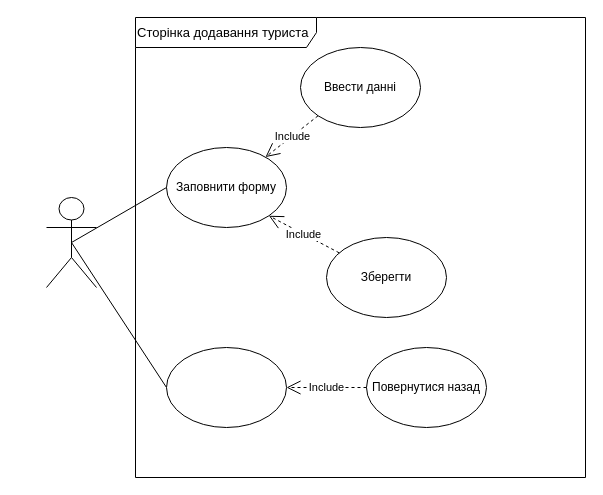
The diagram is 603 pixels wide and 495 high, and some of its shapes have lost their labels. Each missing label, with the box of its shape:
Відмінити: (166, 346, 286, 428)
Працівник агенства: (46, 196, 96, 288)
